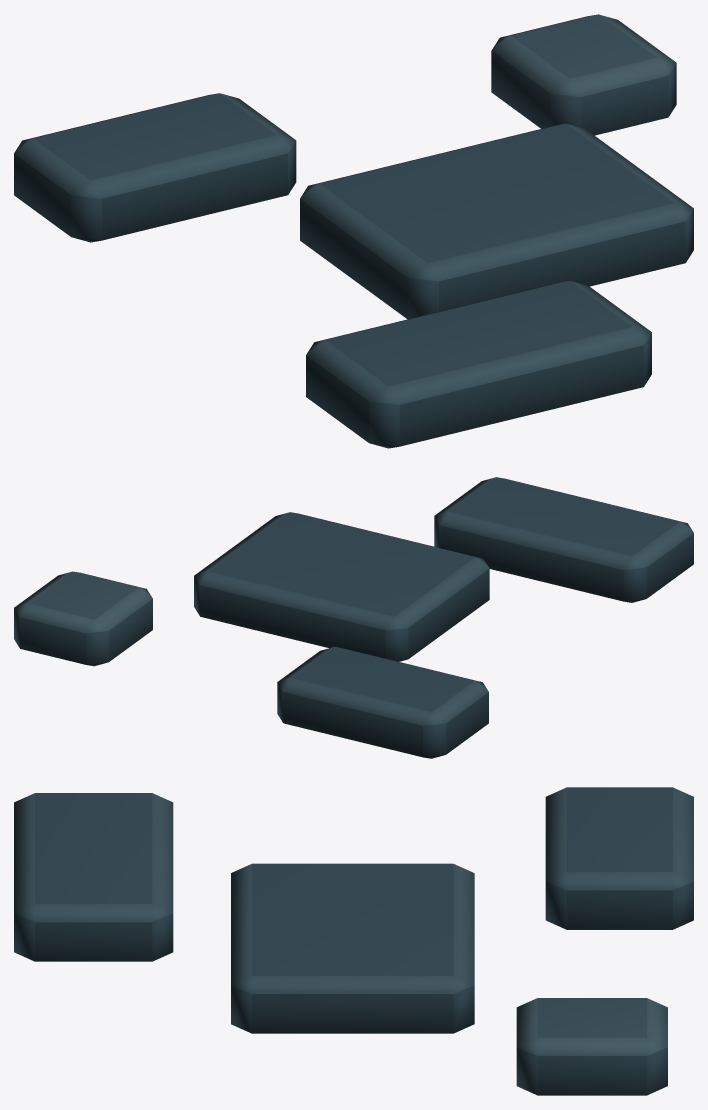
Rendered from stone_path_8.fbx.
The picture shows the model from 3 angles, top to bottom: view 1: azimuth 30°, elevation 25°; view 2: azimuth 150°, elevation 25°; view 3: azimuth 270°, elevation 25°; orthographic projection. The views are drawn at different scales.
Visible parts, largest first — view 1: stone_path_8; view 2: stone_path_8; view 3: stone_path_8.
Part boxes in pixels (x1,y1,x2,y2): stone_path_8: [14, 14, 693, 448]; stone_path_8: [14, 477, 693, 758]; stone_path_8: [14, 787, 693, 1095].
Bounding box in the file's own units: 182 × 18.28 × 195.
